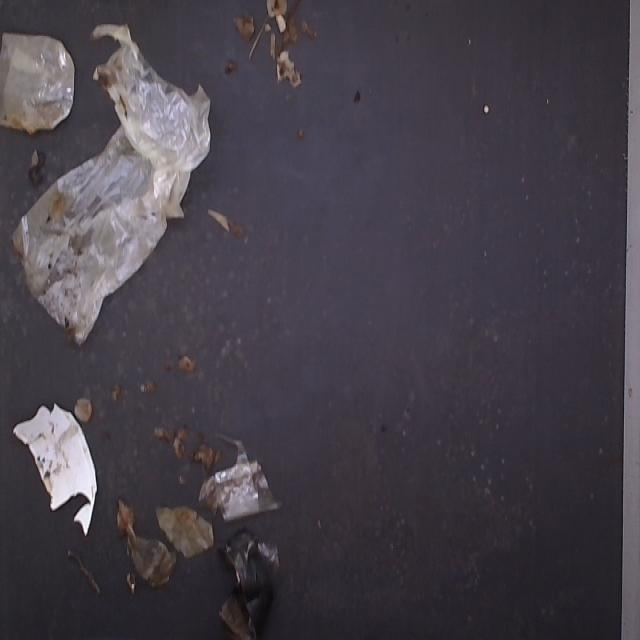plastic_cups: (0, 34, 81, 134)
plastic_films: (33, 26, 218, 364), (201, 438, 275, 532)
undef_hard_plastic: (9, 396, 111, 526)
